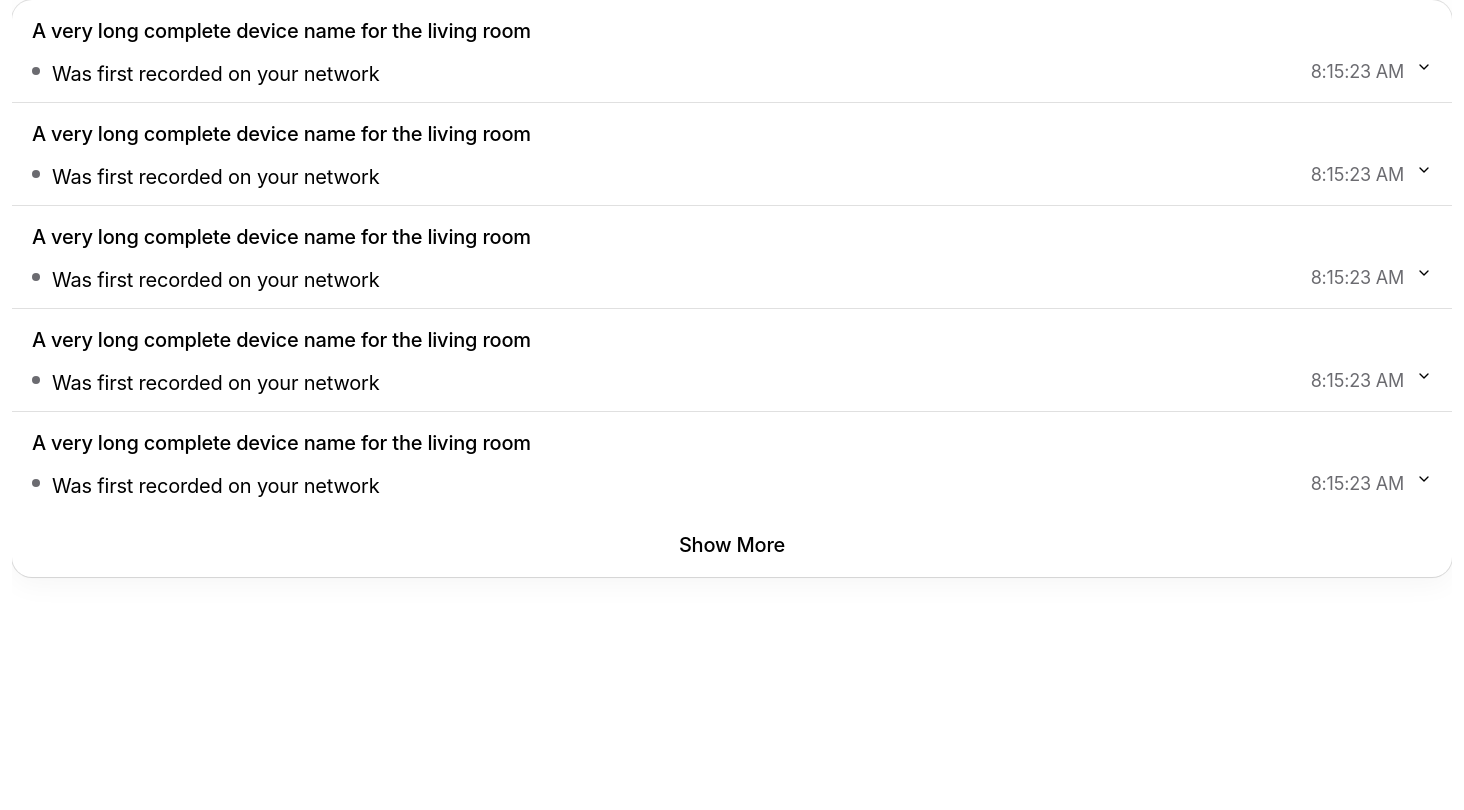
caps activity at five rows, reveals five more, and shows full names without name buttons
Check: the text "A very long complete device name for the living room" is shown 5 times, box [32,19,531,43]; [32,122,531,146]; [32,225,531,249]; [32,328,531,352]; [32,431,531,455]
Click the button "Show More". click: (732, 546)
box: [12,514,1452,577]
(page scrolled)
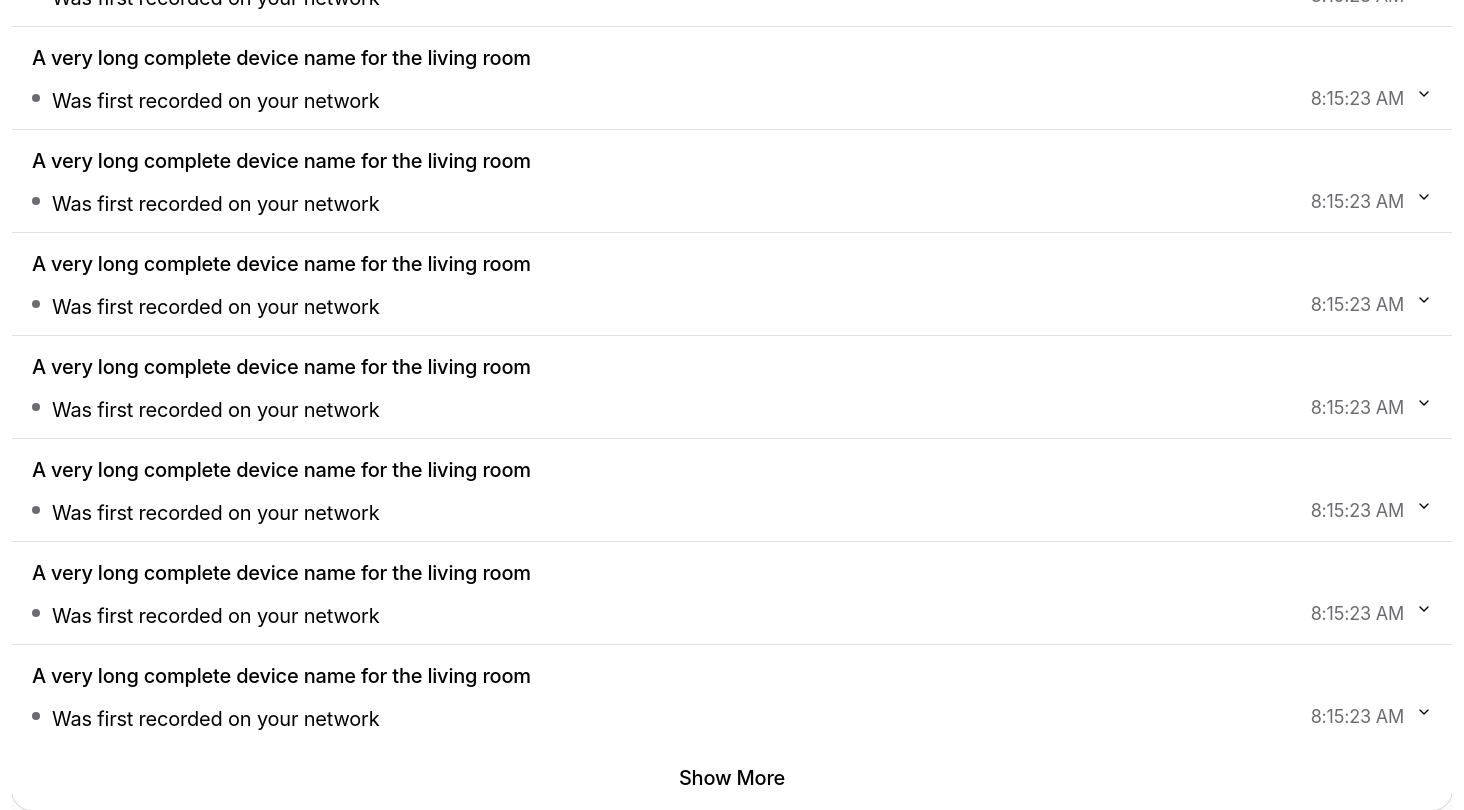
Check: the text "A very long complete device name for the living room" is shown 10 times
Click the button "Show More". click: (732, 778)
box: [12,747,1452,809]
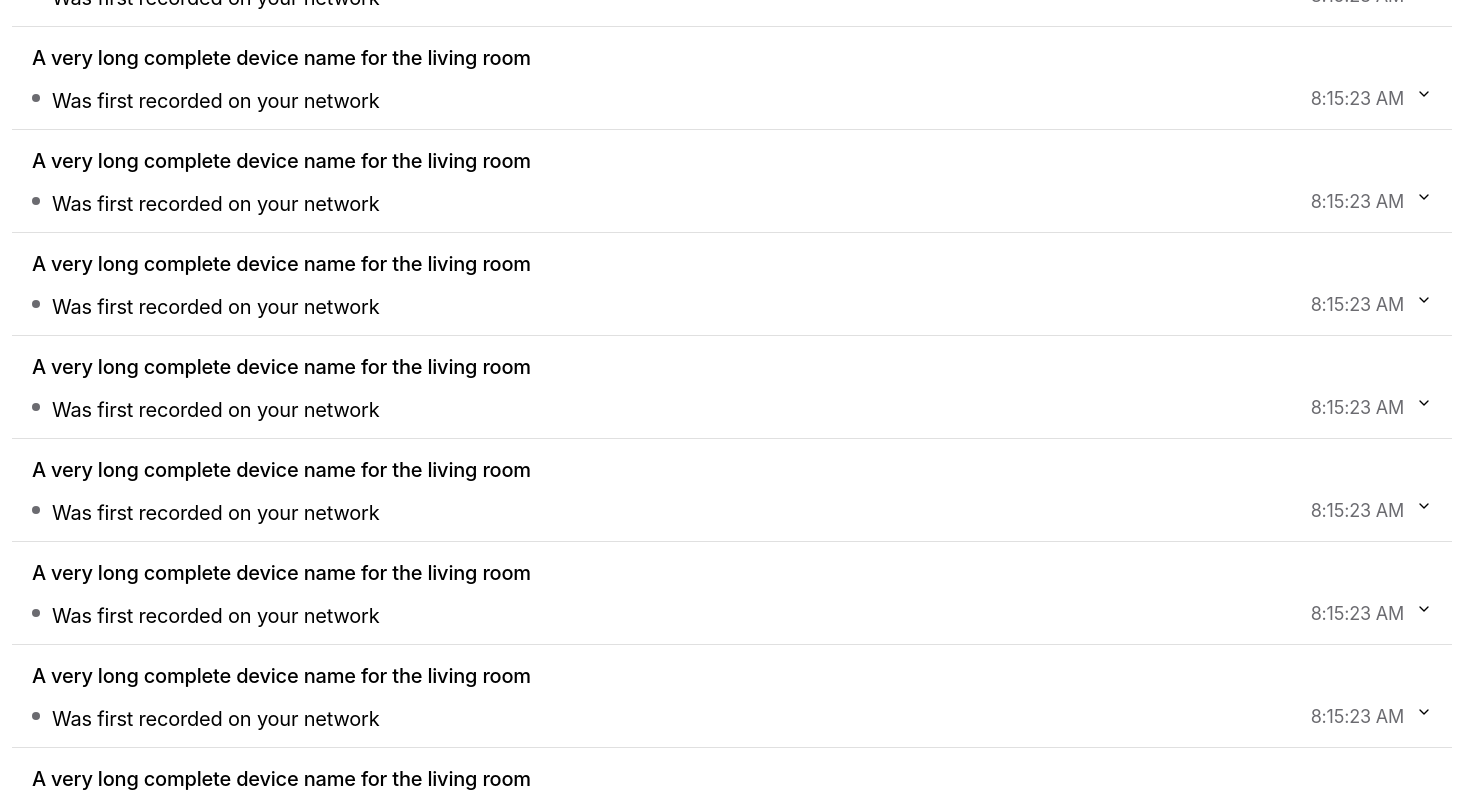
Check: the button "Show More" is gone
